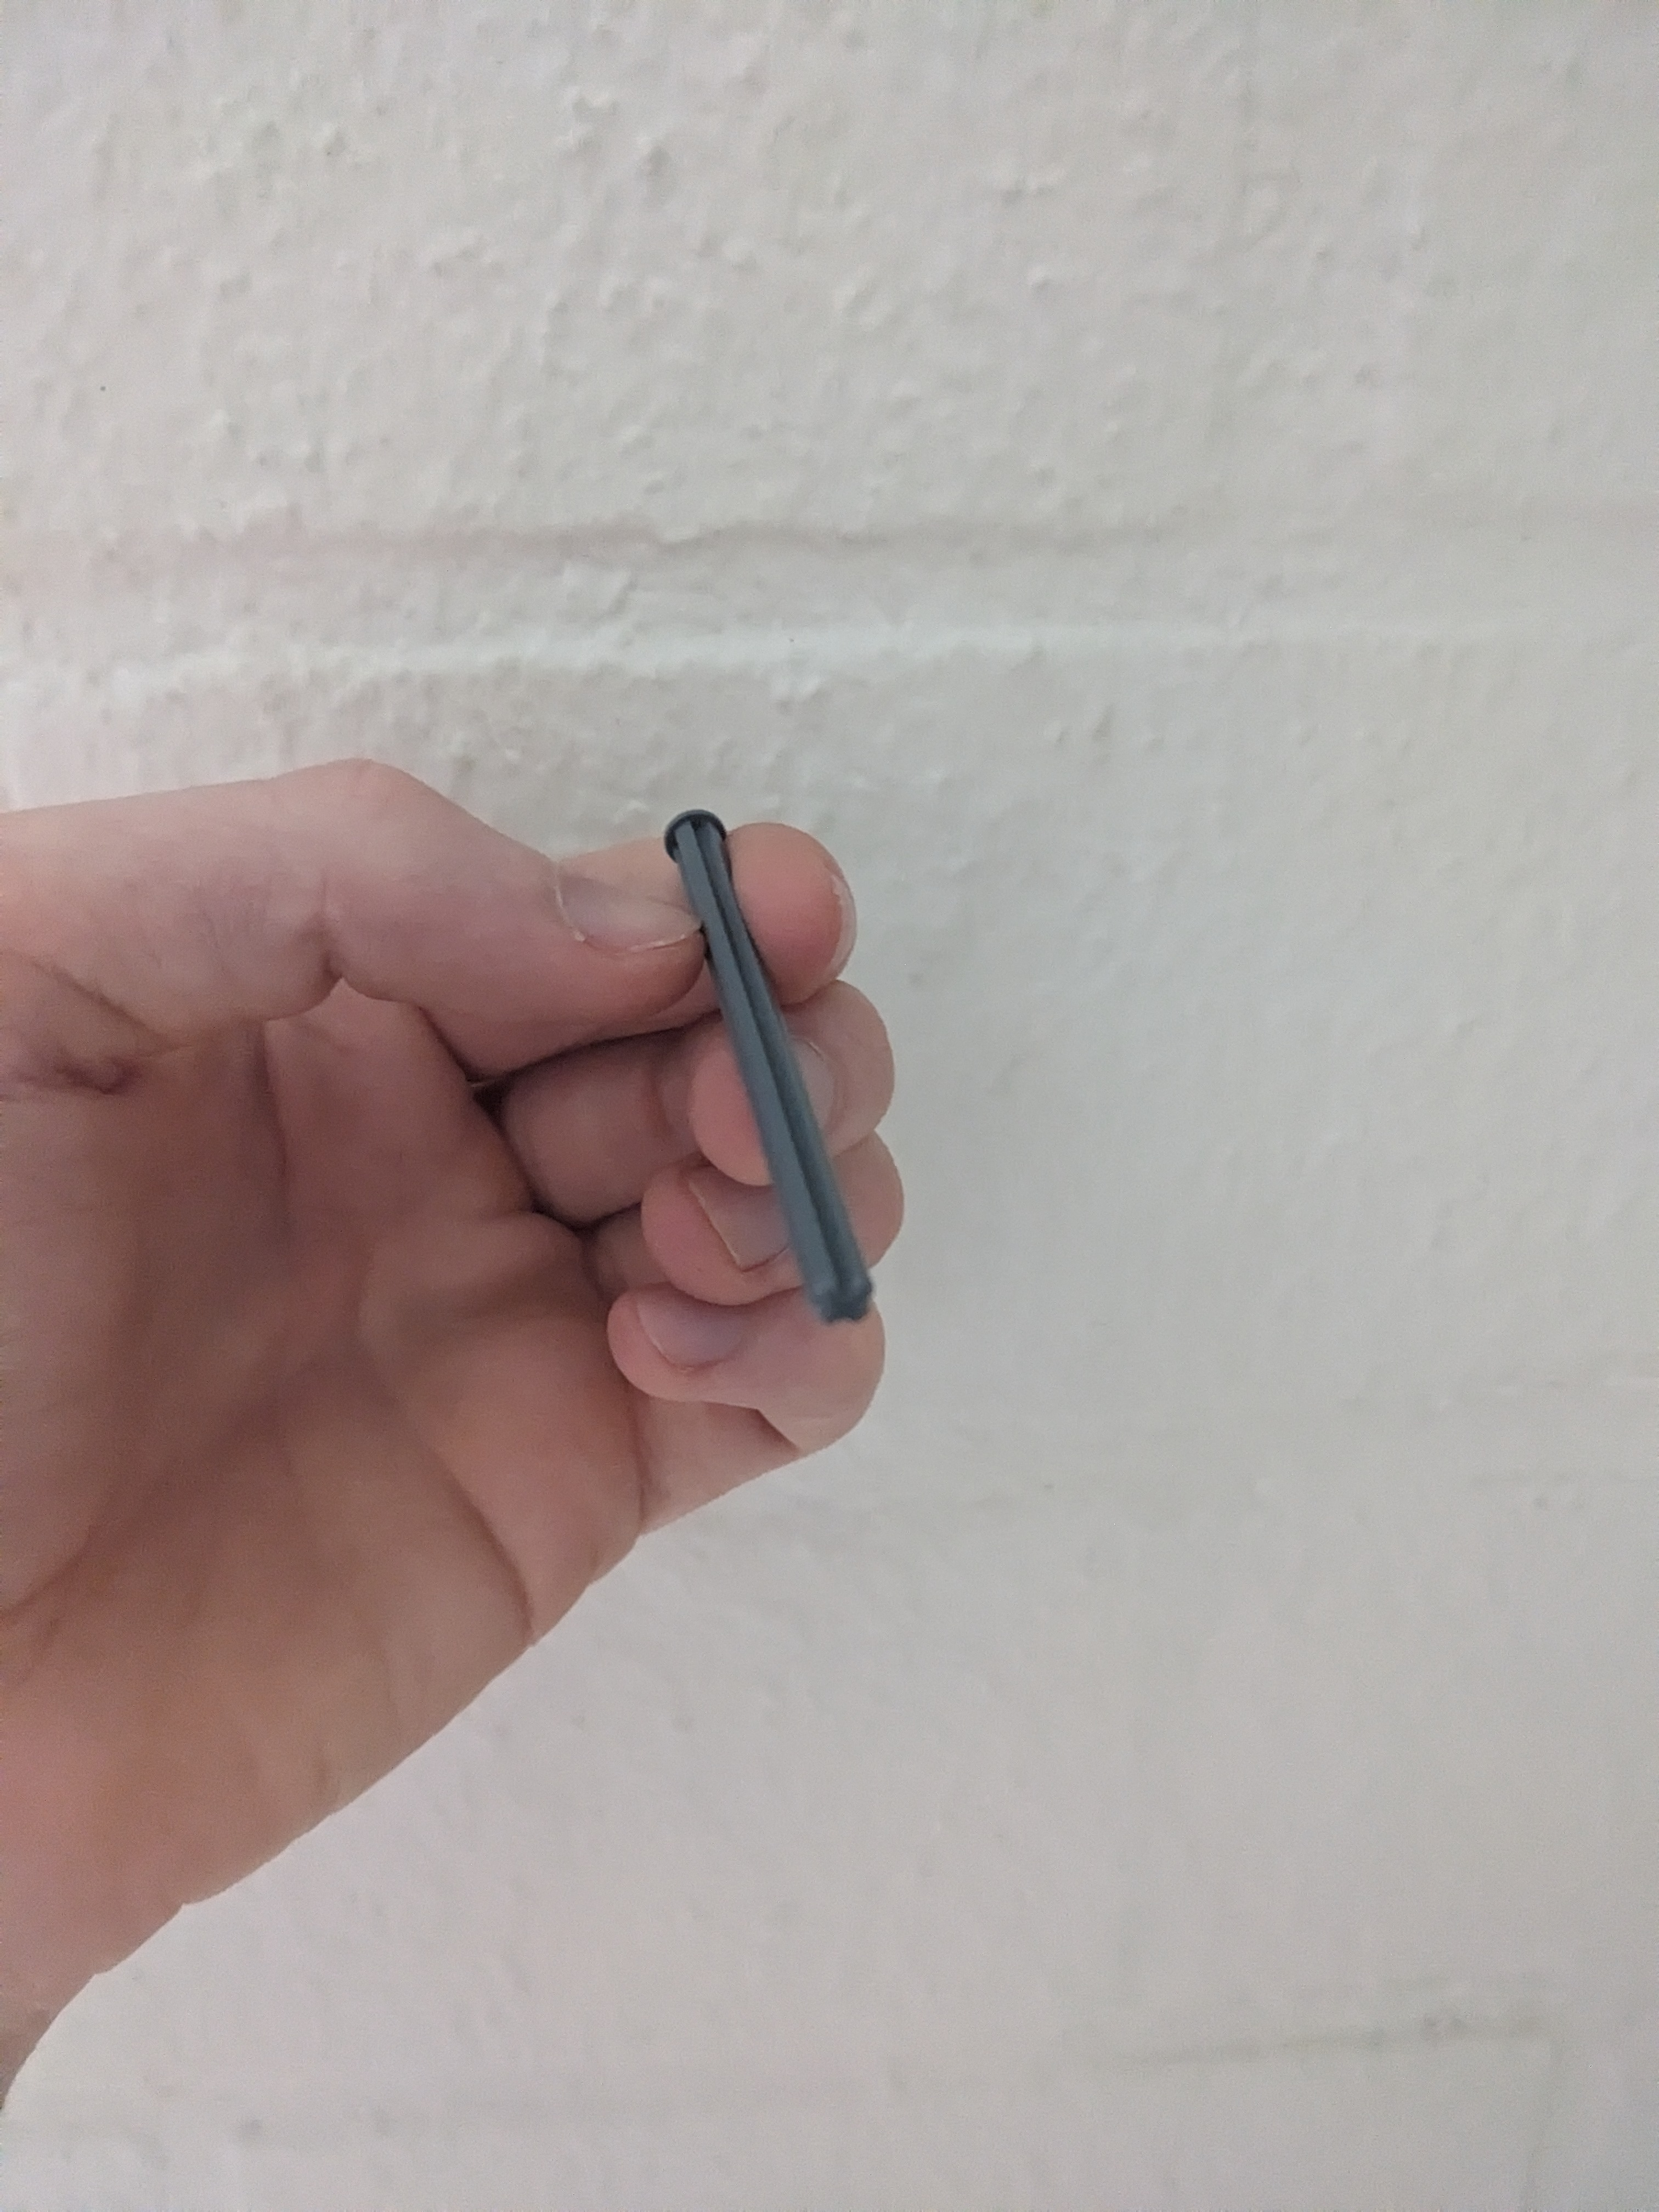Grau_lang: (650, 789, 924, 1378)
